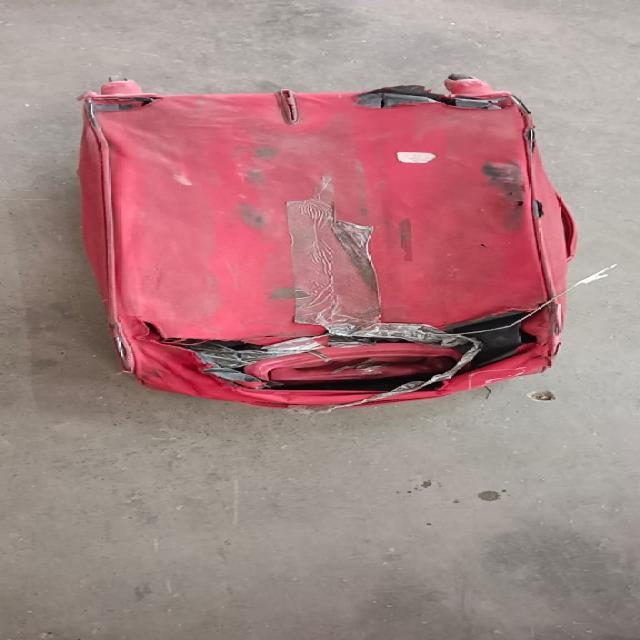Damage-bag: (111, 171, 575, 411), (353, 75, 528, 120), (483, 122, 553, 229), (81, 81, 161, 164)
